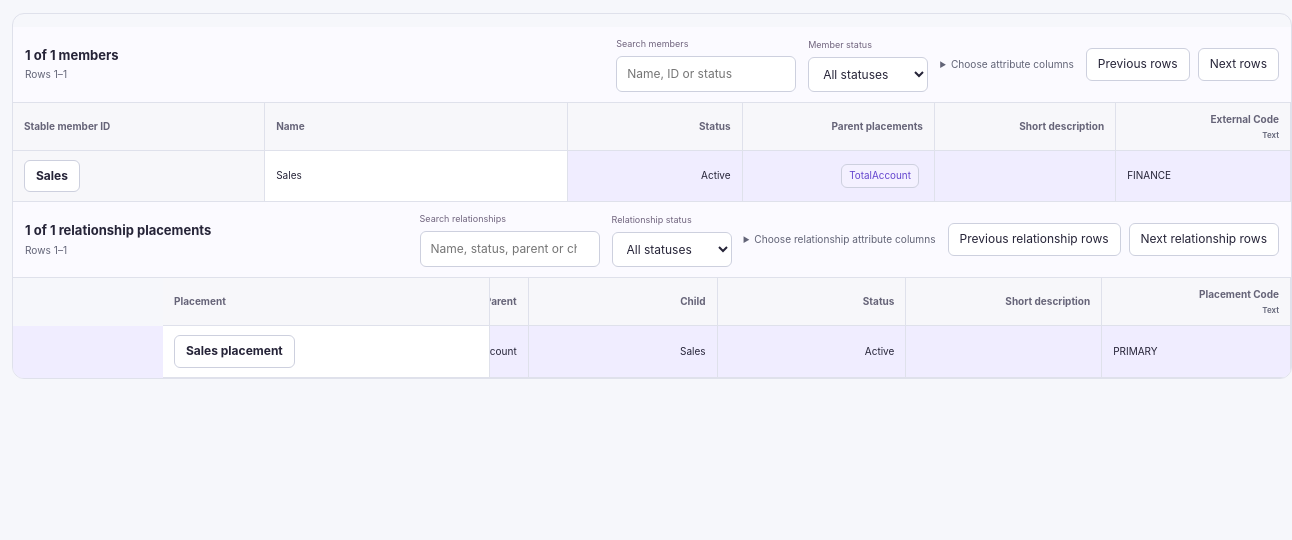
Test: renders governed custom columns and submits one reviewed typed edit
Click the cell named "External Code for Sales": (1204, 176) top-left (1116, 150), bottom-right (1291, 202)
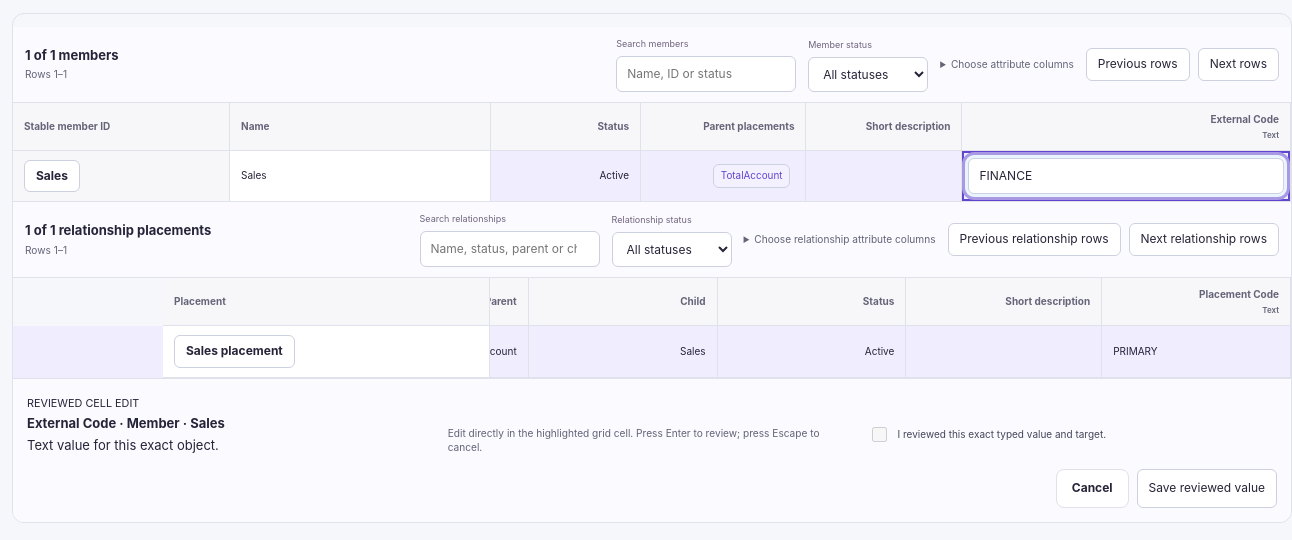
Replace the text in the field named "Typed value" with "FINANCE-REVIEWED": (1126, 176) top-left (968, 158), bottom-right (1284, 194)
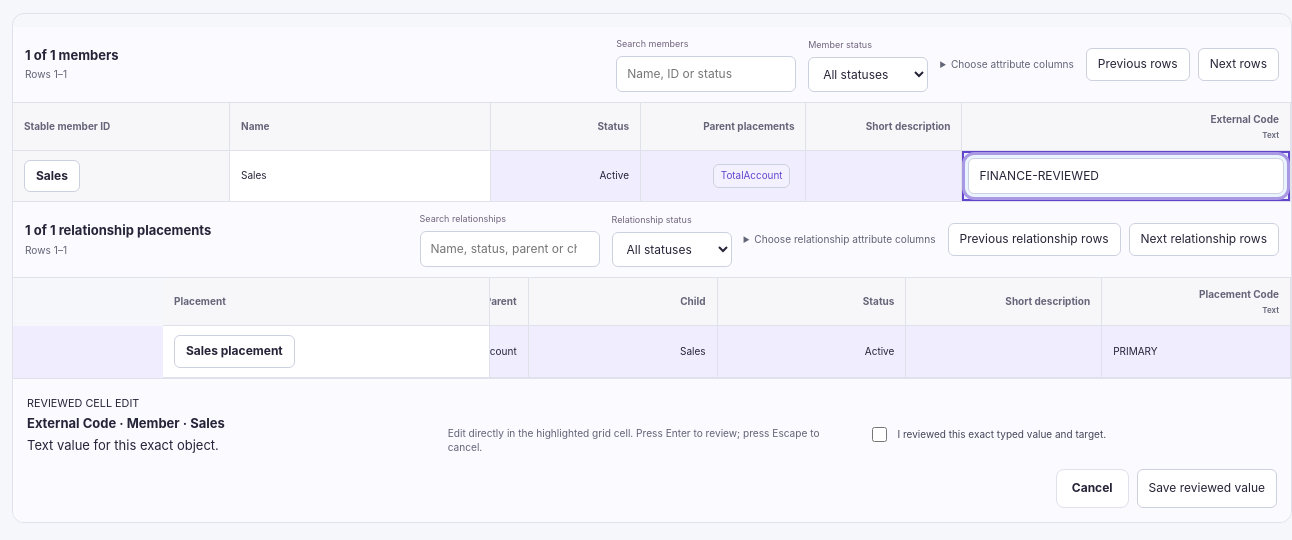
Press Enter in the field named "Typed value", box top-left (968, 158), bottom-right (1284, 194)
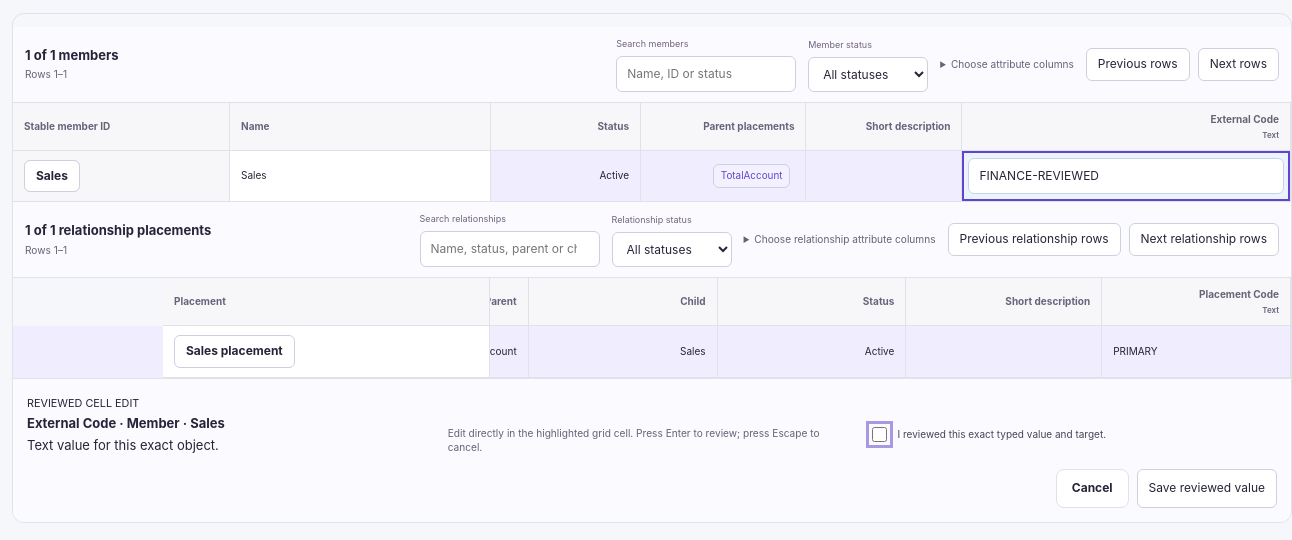
Click the checkbox labelled "I reviewed this exact typed value and target.": (880, 435) top-left (872, 427), bottom-right (887, 442)
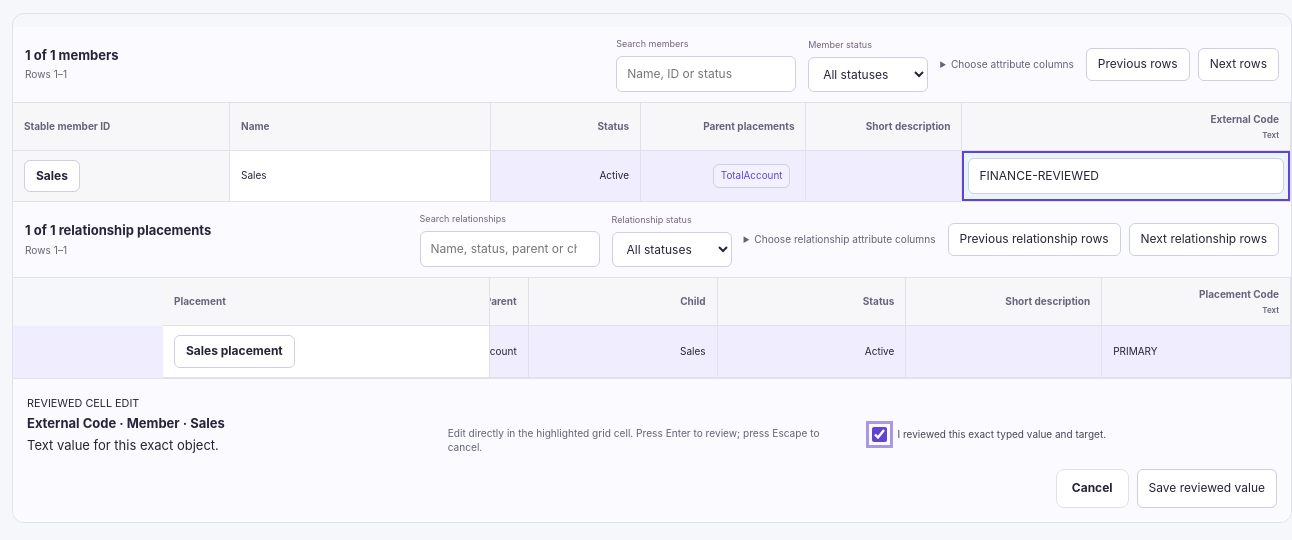
Click the button "Save reviewed value": (1207, 488) top-left (1137, 469), bottom-right (1277, 508)
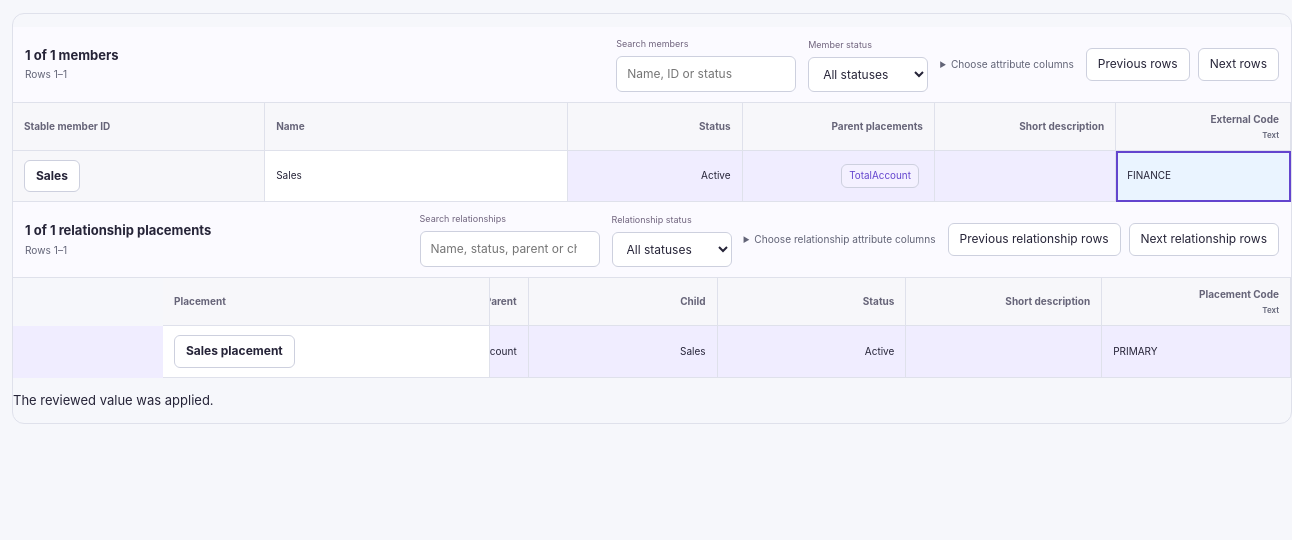
Expected: the text "The reviewed value was applied." is shown, top-left (13, 392), bottom-right (214, 408)
